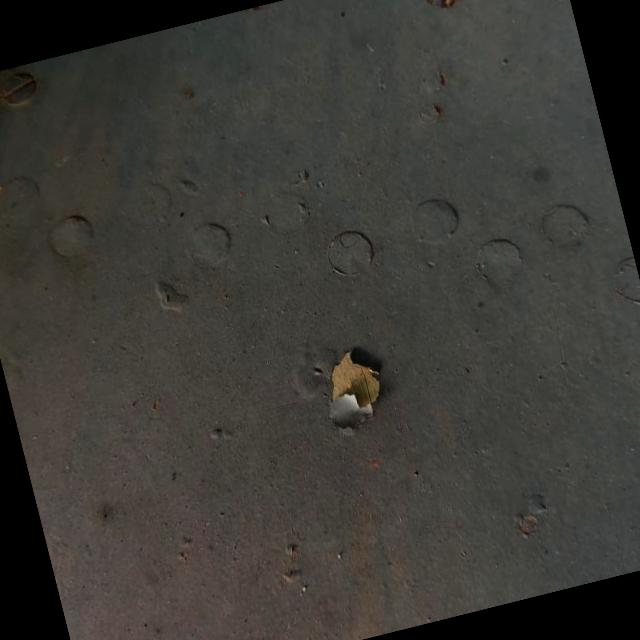paint-off: (300, 331, 410, 454)
